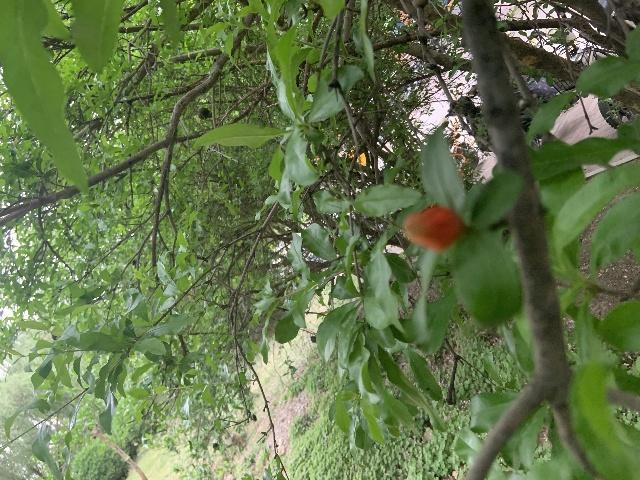bud: (403, 205, 467, 251)
